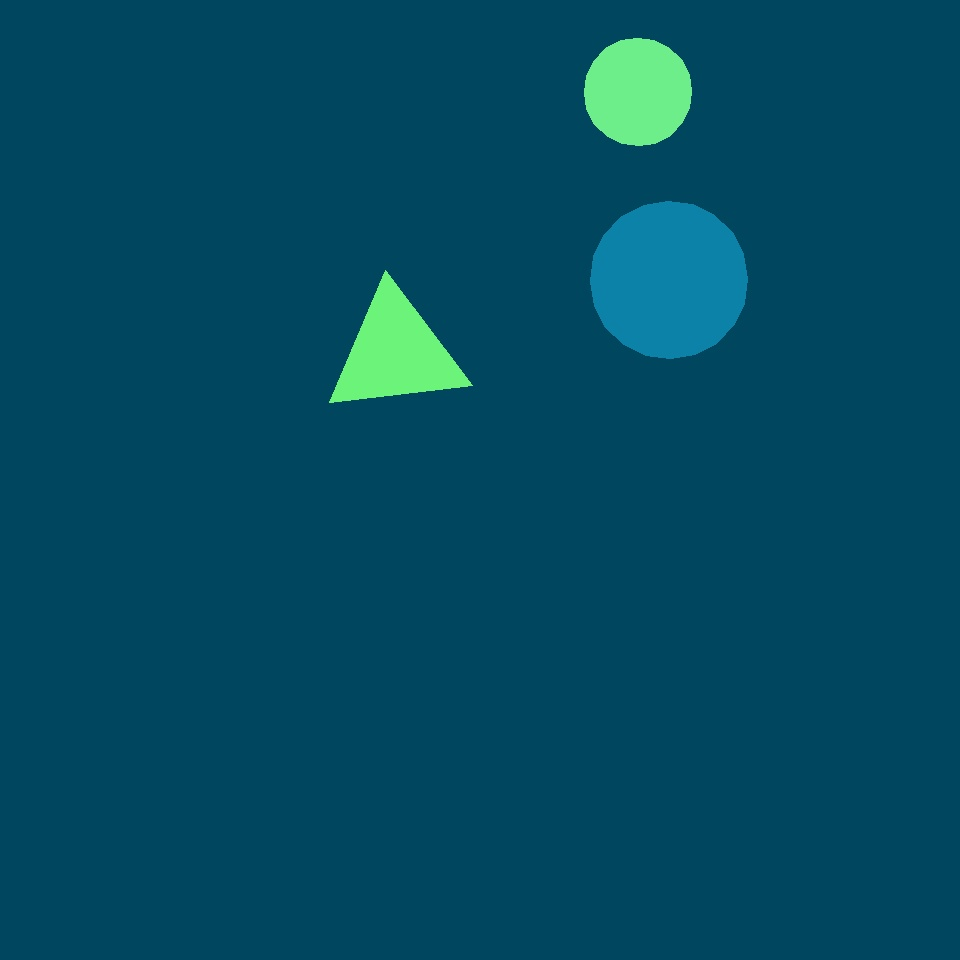circle: (611, 621, 887, 903), (324, 287, 467, 419)
triangle: (314, 393, 546, 625), (431, 754, 598, 921), (590, 202, 748, 359), (736, 279, 857, 400), (584, 38, 692, 146)
